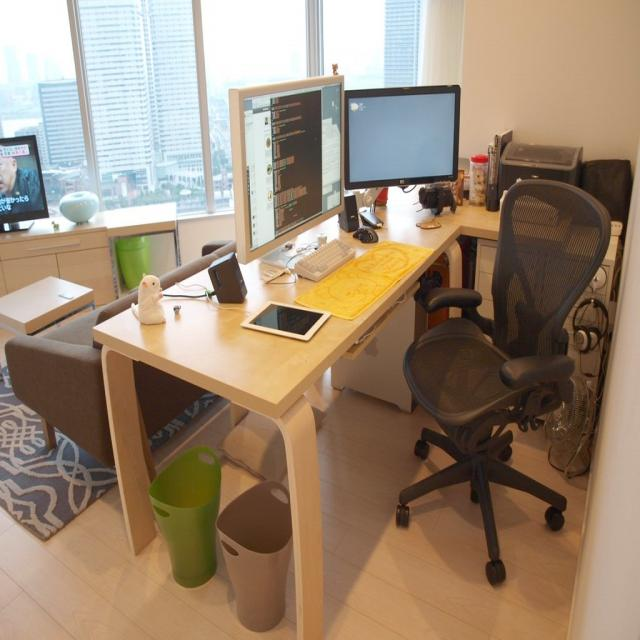chair: (396, 176, 611, 584)
desk: (93, 193, 496, 639)
keyboard: (299, 242, 424, 322), (295, 238, 355, 281)
mouse: (353, 227, 379, 243)
tv: (228, 73, 346, 264), (344, 84, 462, 192), (0, 132, 50, 231)
